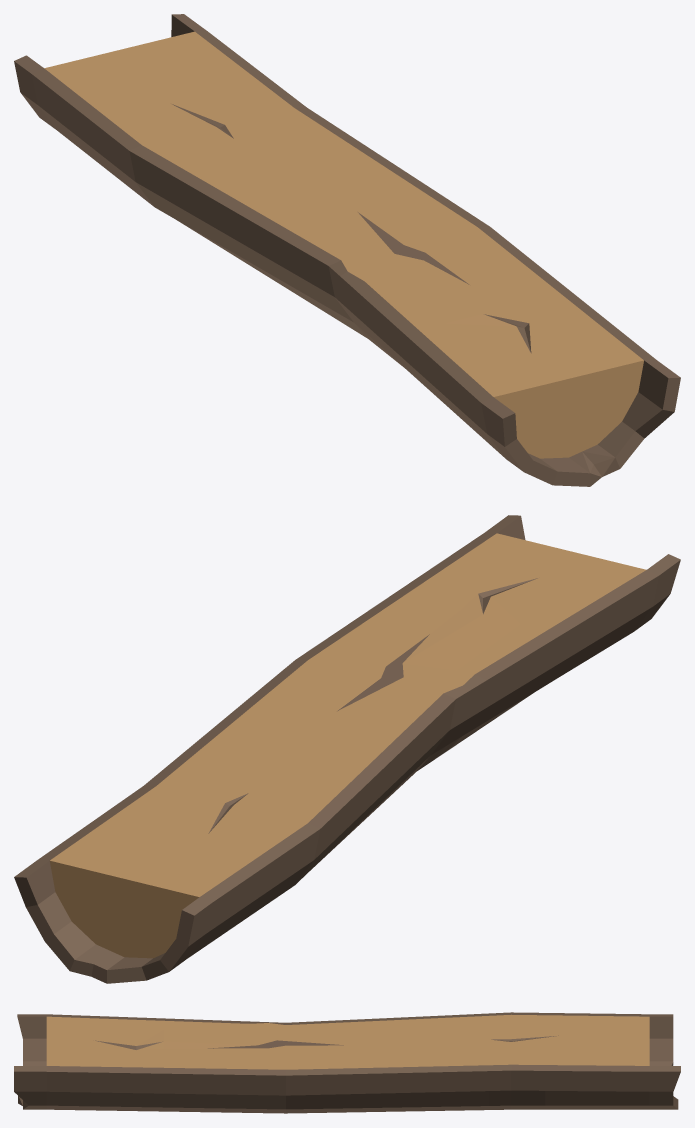
The model's file is Beam_bench.fbx.
3 renders of one model, top to bottom at view 1: azimuth 30°, elevation 25°; view 2: azimuth 150°, elevation 25°; view 3: azimuth 270°, elevation 25°, orthographic. The views are drawn at different scales.
Visible parts, largest first — view 1: Beam_bench; view 2: Beam_bench; view 3: Beam_bench.
Part boxes in pixels (box(x1,y1,x2,y2)): Beam_bench: box(14, 14, 680, 486); Beam_bench: box(14, 515, 680, 983); Beam_bench: box(14, 1012, 680, 1113).
Bounding box in the file's own units: 59.4 × 265 × 27.32.
